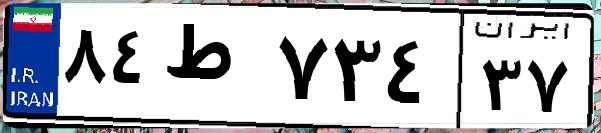3: (330, 28, 385, 110), (475, 38, 525, 113)
4: (385, 28, 445, 110), (110, 28, 158, 98)
7: (270, 28, 330, 110), (525, 38, 570, 115)
8: (57, 26, 110, 100)
ط: (158, 20, 270, 120)
